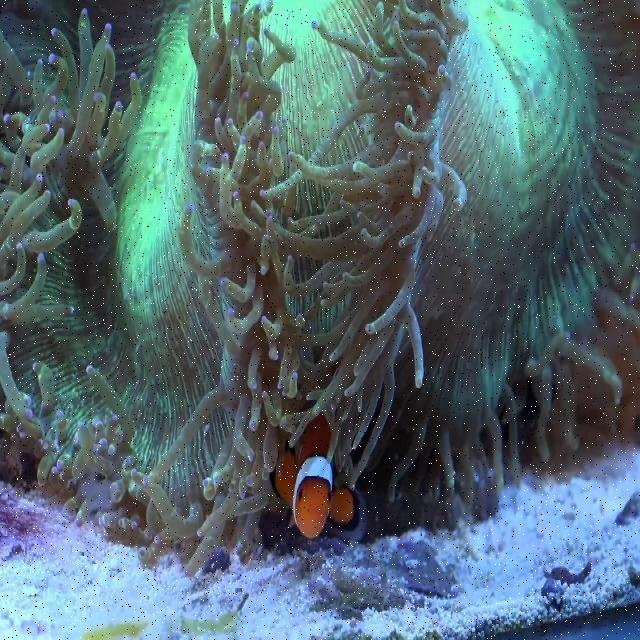fish: (269, 416, 355, 540)
reefs: (0, 0, 639, 574)
